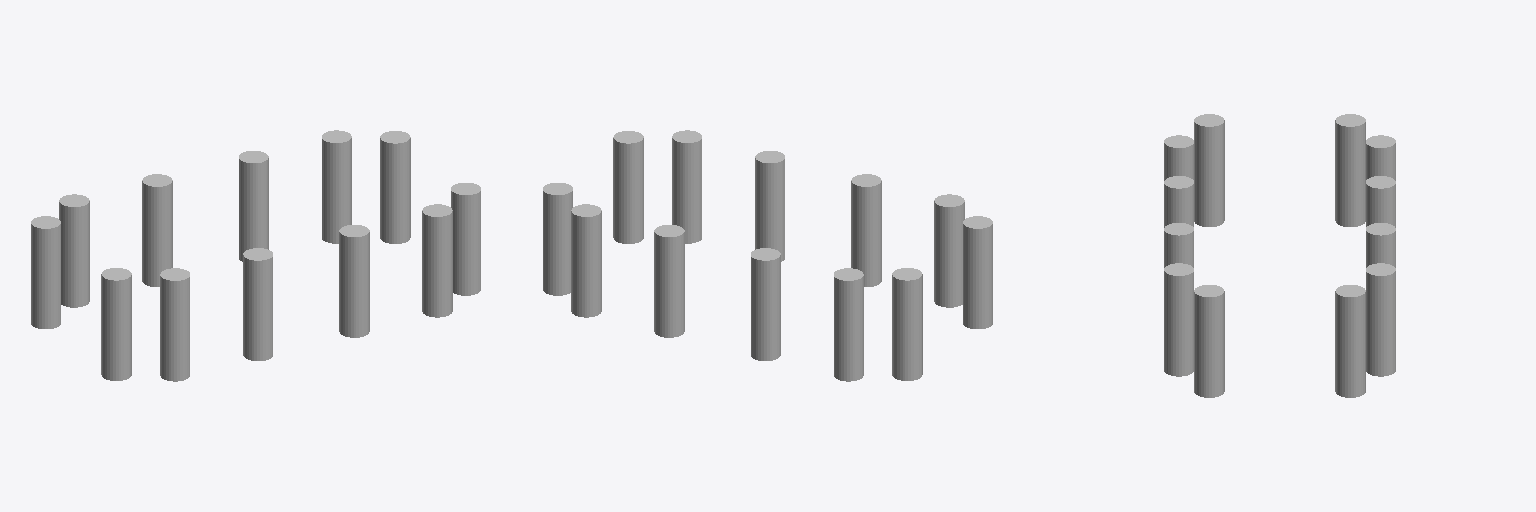
Rendered from columns.obj.
The picture shows the model from 3 angles: view 1: azimuth 30°, elevation 25°; view 2: azimuth 150°, elevation 25°; view 3: azimuth 270°, elevation 25°; orthographic projection.
Parts seen in each view (by area): view 1: Columns; view 2: Columns; view 3: Columns.
Part boxes in pixels (x1,y1,x2,y2): Columns: (31,130,480,381); Columns: (543,130,992,381); Columns: (1164,114,1395,397).
Size of the model in its own units: 8.6 by 2.2 by 4.6.